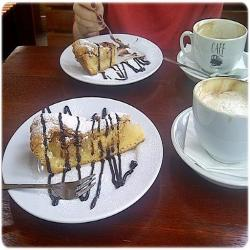apple_pie: (26, 106, 154, 176), (68, 32, 144, 77)
